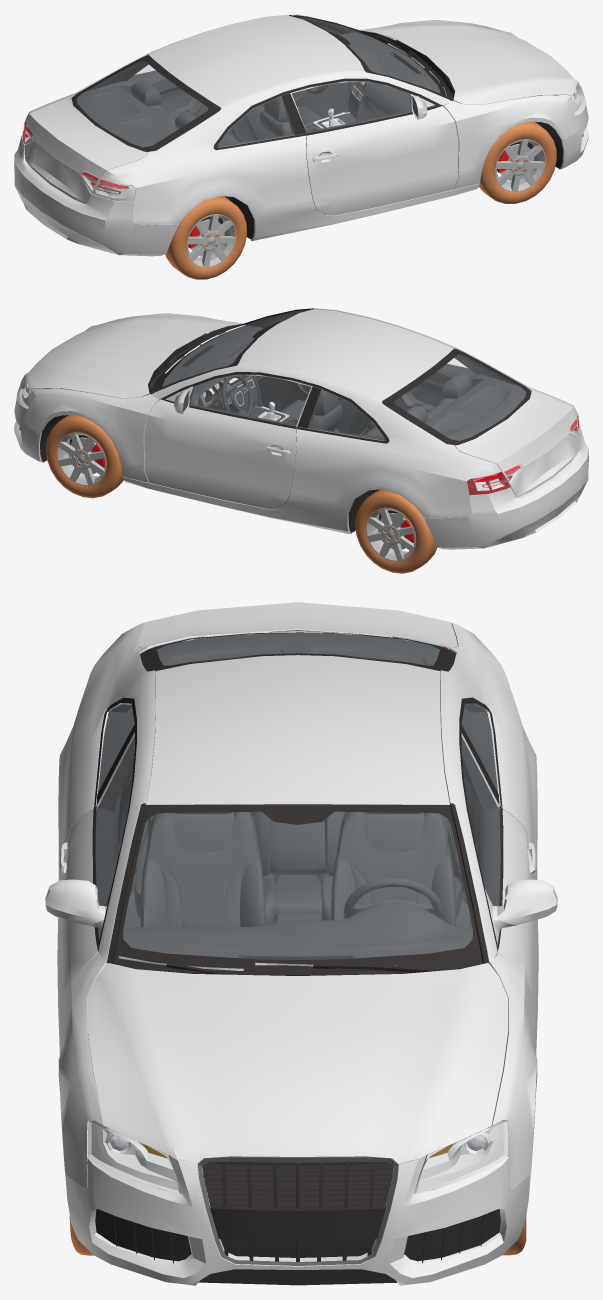
File: SEDAN14.obj
3 renders of one model, top to bottom at view 1: azimuth 30°, elevation 25°; view 2: azimuth 150°, elevation 25°; view 3: azimuth 270°, elevation 25°, orthographic. The views are drawn at different scales.
Visible parts, largest first — view 1: 14; view 2: 14; view 3: 14.
Boxes of the visible parts, bbox=[...] form: 14: bbox=[14, 14, 588, 279]; 14: bbox=[14, 308, 588, 573]; 14: bbox=[45, 602, 557, 1285].
Bounding box in the file's own units: 4.59 × 1.39 × 1.95.
